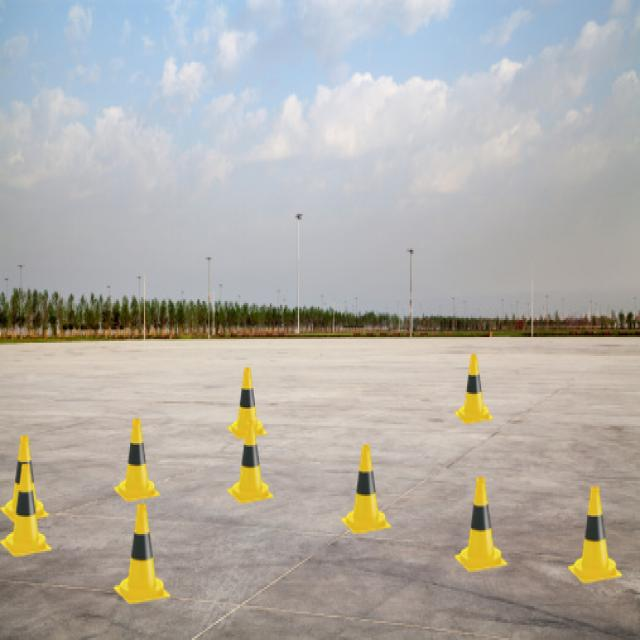yellow_cone: (114, 504, 170, 604), (568, 487, 622, 583), (454, 477, 508, 572), (0, 464, 52, 557), (341, 445, 391, 534), (0, 436, 49, 522), (227, 420, 274, 504), (114, 418, 160, 502), (227, 368, 268, 440), (454, 354, 494, 424)
